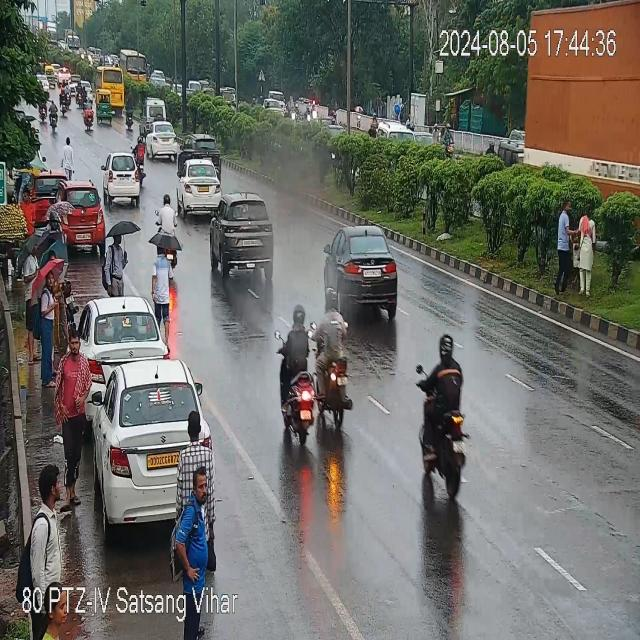2-wheelers: (277, 295, 352, 433), (414, 333, 468, 501), (278, 295, 316, 436), (153, 194, 179, 237), (83, 99, 98, 131), (47, 95, 59, 130), (124, 103, 138, 132)
auto: (102, 154, 142, 204), (180, 133, 222, 160), (96, 91, 117, 123)
bus: (91, 66, 124, 112)
car: (77, 358, 221, 526), (326, 225, 404, 320), (212, 193, 284, 281), (60, 186, 106, 247), (178, 165, 225, 216), (145, 122, 182, 160)
pedestrian: (22, 463, 70, 621), (168, 469, 217, 598), (554, 208, 598, 304), (61, 337, 88, 477), (150, 233, 180, 333), (40, 274, 62, 378), (103, 219, 130, 294), (56, 140, 76, 182), (23, 187, 38, 241)
truck: (511, 7, 640, 204)
